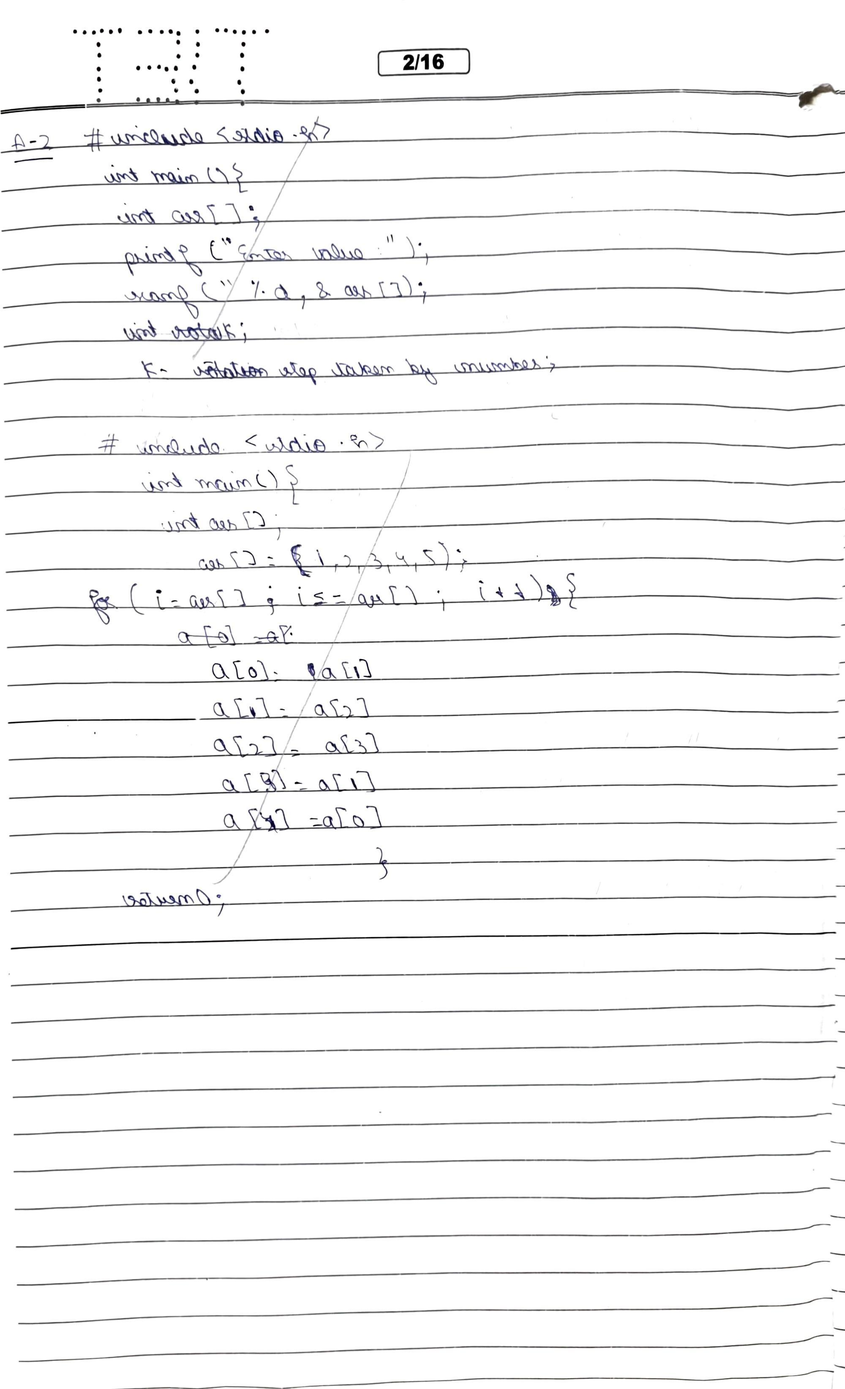cuttings: (84, 423, 584, 918), (85, 114, 556, 389)
